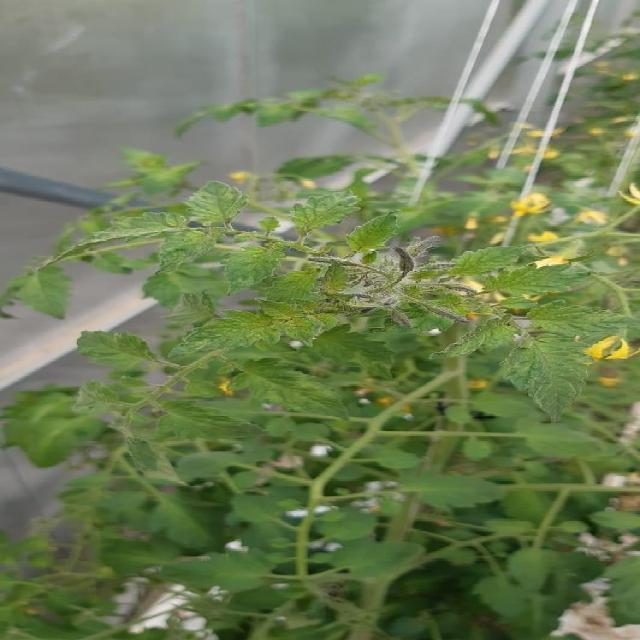T_L_H: (232, 359, 346, 417), (157, 402, 263, 440), (76, 333, 156, 367)
T_L_R: (500, 335, 592, 422), (172, 311, 283, 356), (529, 301, 640, 340), (429, 315, 516, 359), (486, 265, 591, 296), (488, 265, 591, 296), (223, 245, 285, 295), (293, 192, 361, 236), (185, 181, 247, 224), (347, 212, 399, 254), (450, 248, 526, 276)
